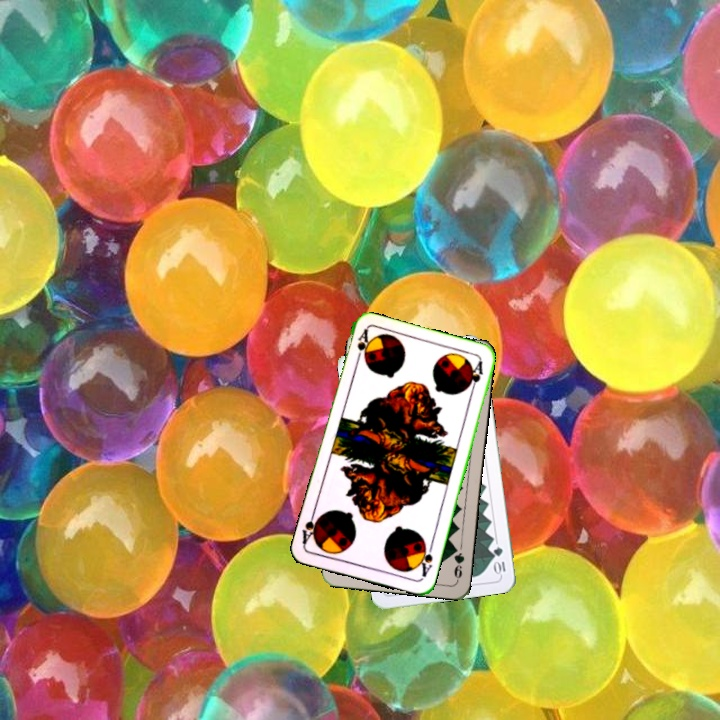G10: (490, 543, 508, 577)
G9: (449, 542, 467, 583)
SA: (415, 538, 435, 580), (352, 326, 371, 366)
